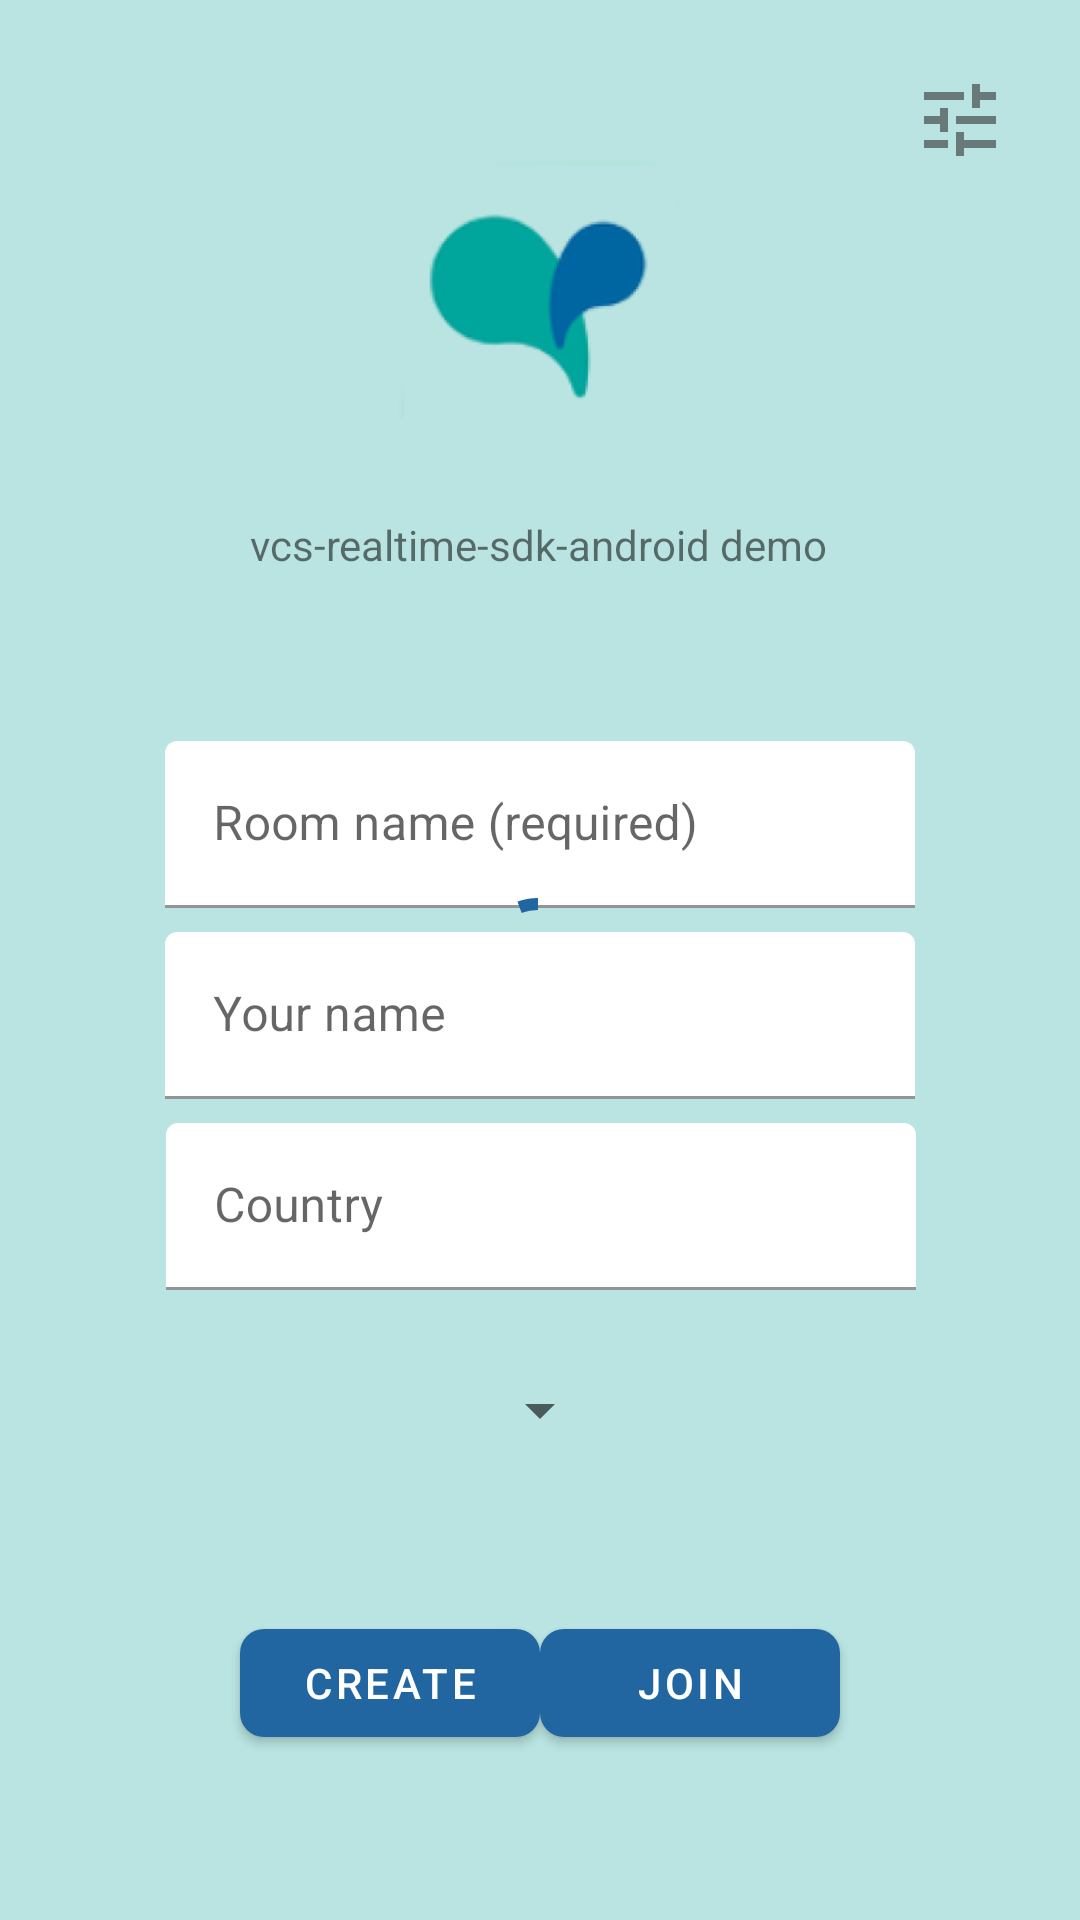

Where icons sit on this 1080 x 1920 app screen, as detection(x1, y1, x2, y2):
Enter settings: detection(924, 84, 996, 156)
